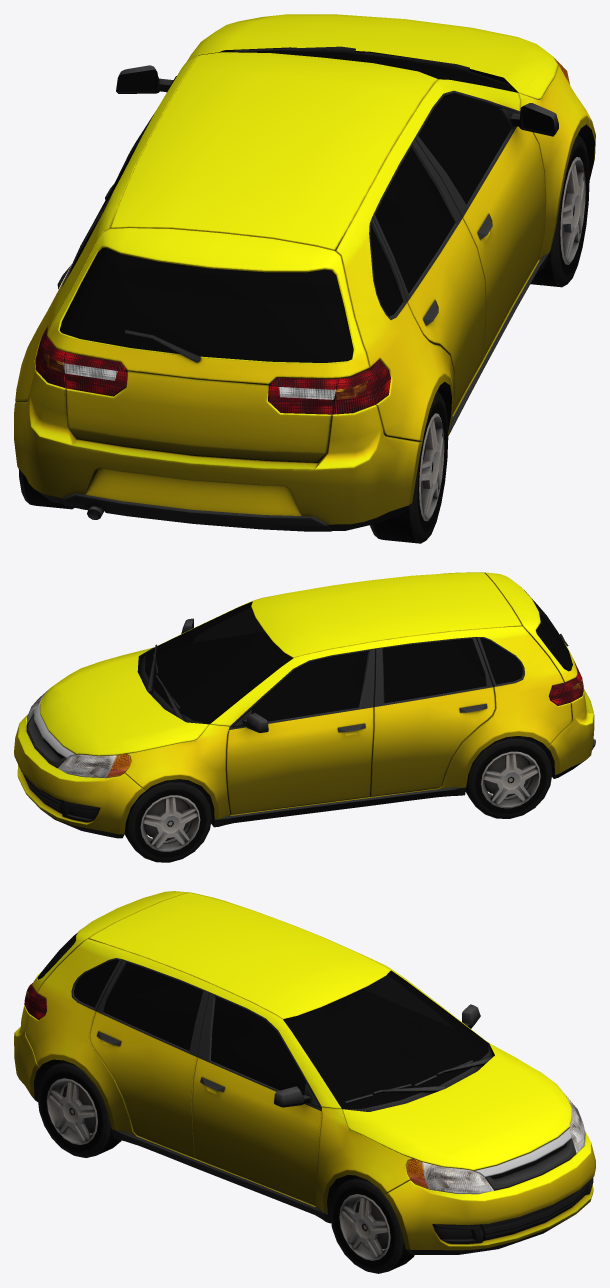
The model's file is hatchback.glb.
The picture shows the model from 3 angles, top to bottom: view 1: azimuth 30°, elevation 25°; view 2: azimuth 150°, elevation 25°; view 3: azimuth 270°, elevation 25°; orthographic projection. The views are drawn at different scales.
Visible parts, largest first — view 1: Hatchback Body, Wheel_B003, Wheel_B002; view 2: Hatchback Body, Wheel_B, Wheel_B001; view 3: Hatchback Body, Wheel_B002, Wheel_B003.
Part boxes in pixels (box(x1,y1,x2,y2)): Hatchback Body: box(14, 14, 595, 531); Wheel_B003: box(370, 391, 448, 543); Wheel_B002: box(530, 135, 589, 287); Hatchback Body: box(14, 572, 595, 838); Wheel_B: box(124, 779, 211, 862); Wheel_B001: box(465, 736, 552, 818); Hatchback Body: box(14, 891, 595, 1254); Wheel_B002: box(330, 1176, 414, 1273); Wheel_B003: box(37, 1060, 121, 1157).
Size of the model in its own units: 3.38 by 1.35 by 3.49.
4 materials, 3 textured.
